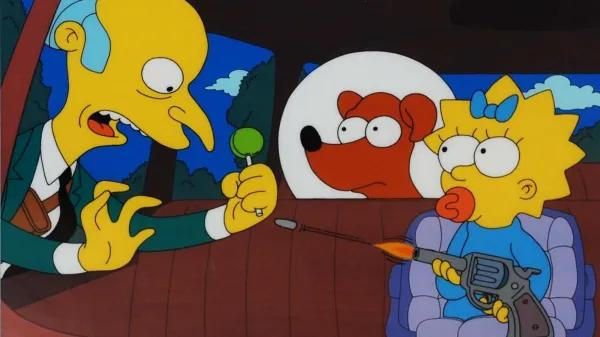Maggie: (409, 69, 594, 328)
